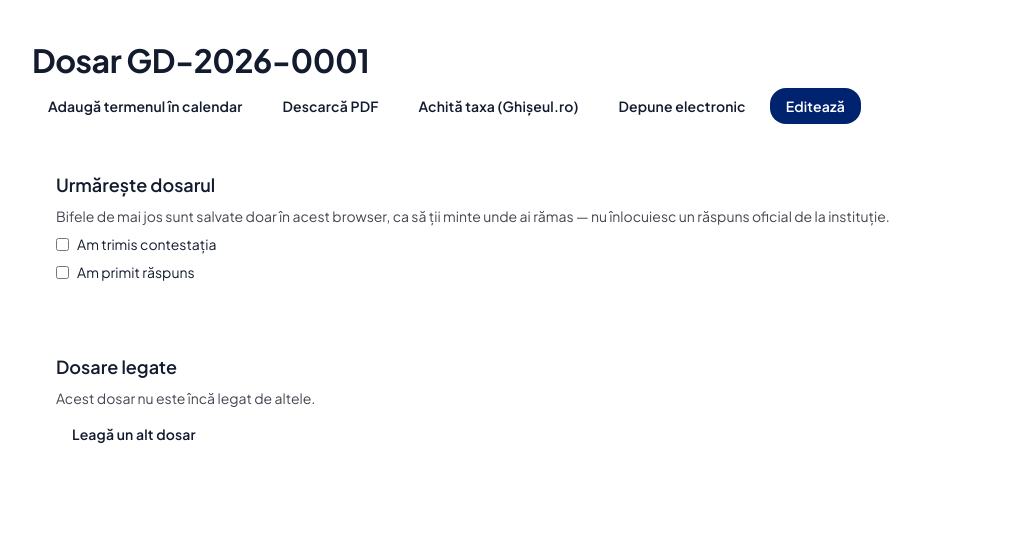
Test case: CaseView › shows an error message when linking fails
This screenshot has width=1024, height=542.
Click the button "Leagă un alt dosar". click: click(134, 434)
box: [56,416,212,452]
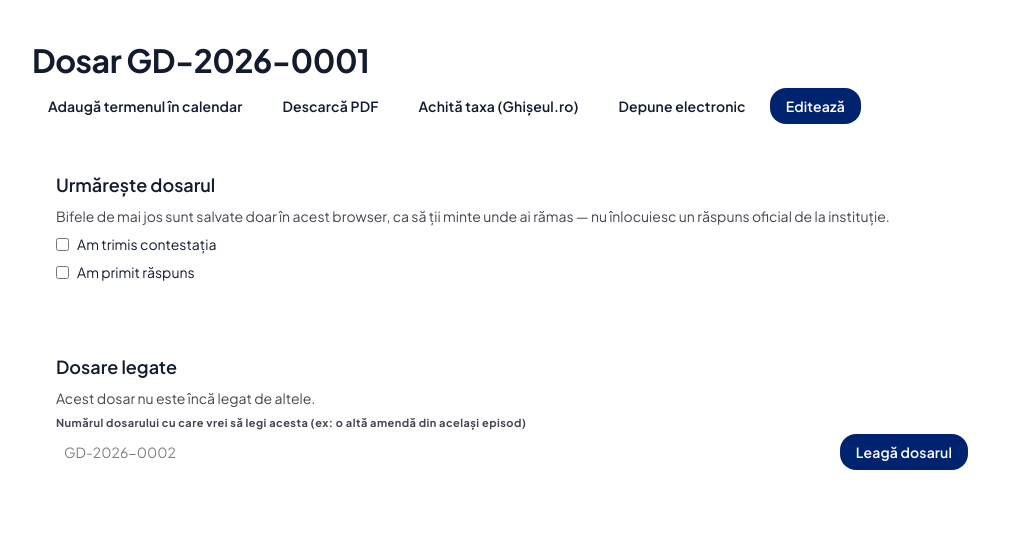
Type "GD-2026-9999" into the field labelled "Numărul dosarului". click: (444, 452)
box: [56,434,832,470]
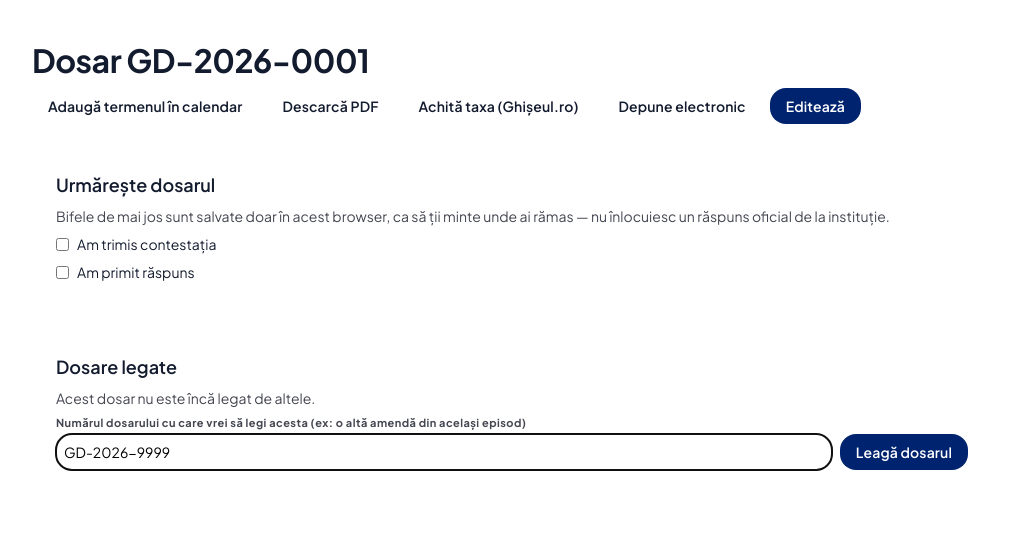
Click the button "Leagă dosarul". click: click(904, 452)
box: [840,434,968,470]
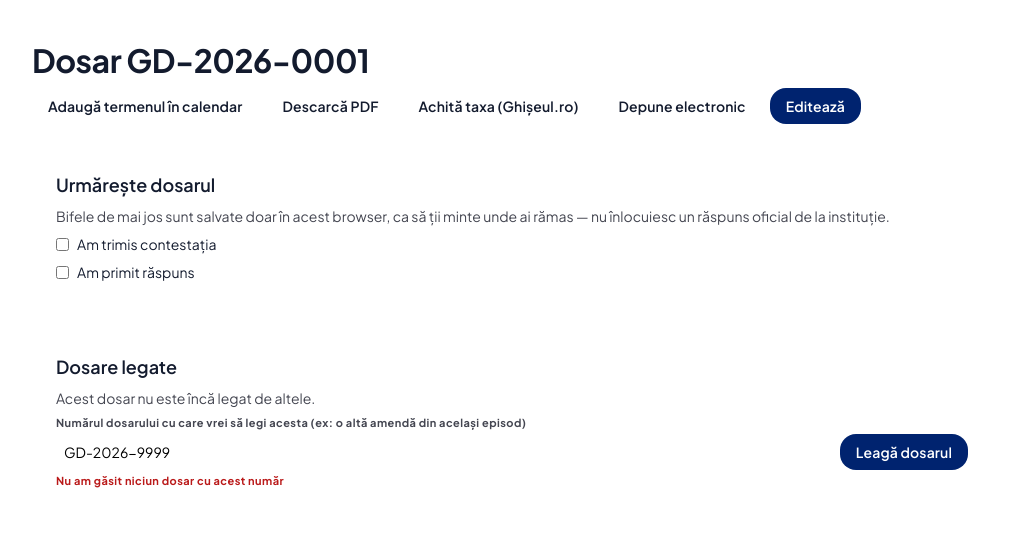
Now the text "Nu am găsit niciun dosar cu acest număr" is shown, box [56,474,284,487]
